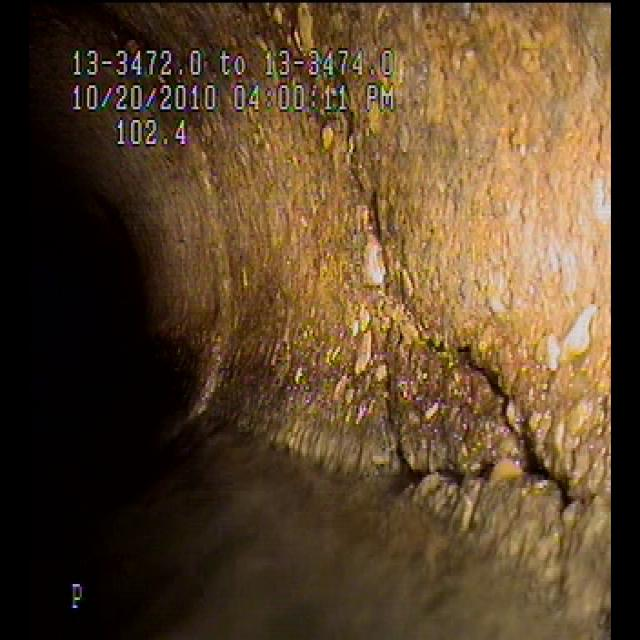Fracture: (334, 123, 565, 518)
